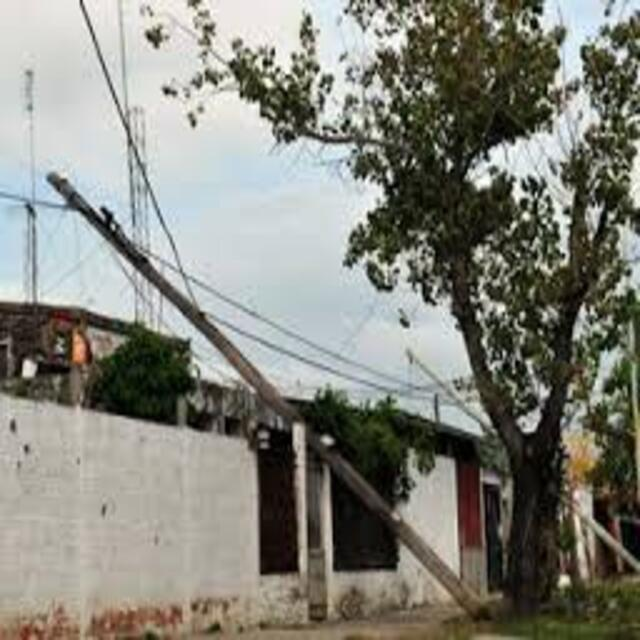Inclined Pole: (40, 167, 503, 622)
